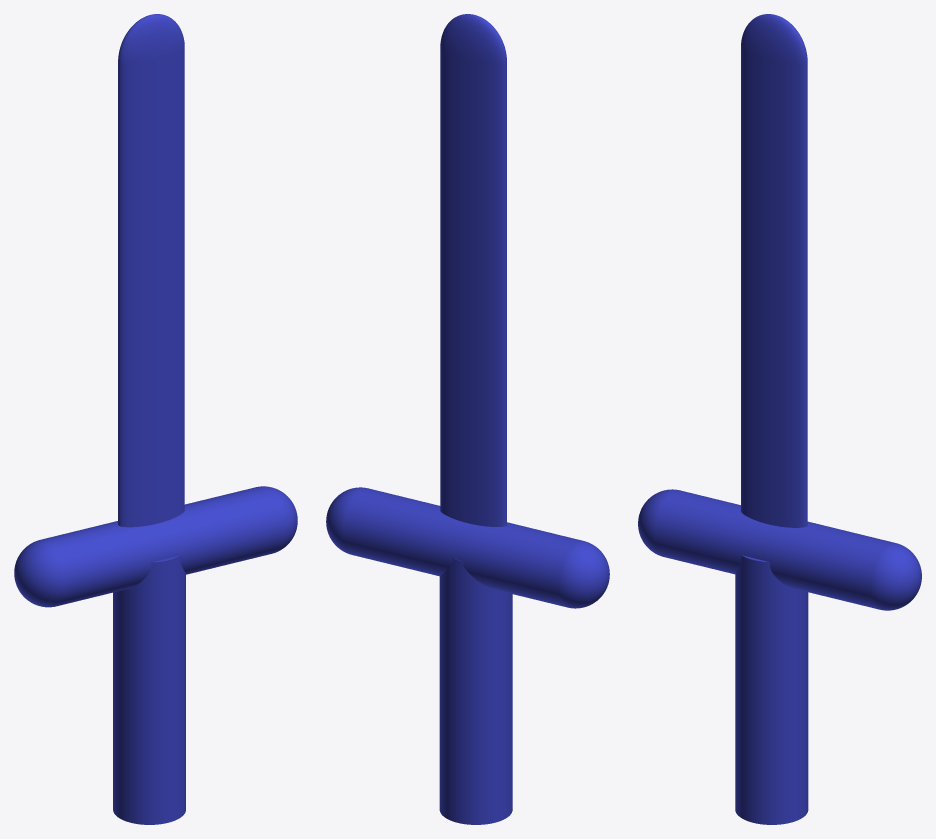
File: sword.fbx
The picture shows the model from 3 angles, left to right: view 1: azimuth 30°, elevation 25°; view 2: azimuth 150°, elevation 25°; view 3: azimuth 330°, elevation 25°; orthographic projection.
Parts seen in each view (by area): view 1: root (×3); view 2: root (×3); view 3: root (×3).
Boxes of the visible parts, x1=… form: root (×3): x1=14, y1=14, x2=297, y2=824; root (×3): x1=326, y1=14, x2=609, y2=824; root (×3): x1=638, y1=14, x2=921, y2=824.
Size of the model in its own units: 0.2534 by 0.7007 by 0.0584.
